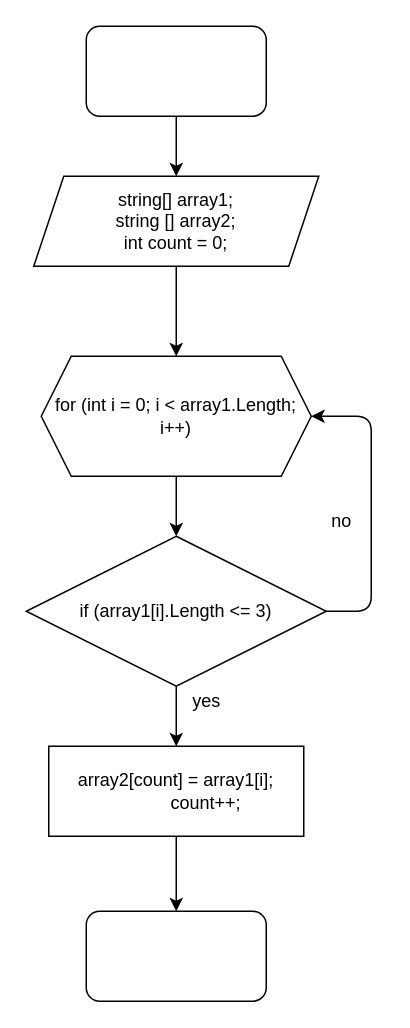
This 410x1028 diagram has some shape labels left out. The shapes that lost their labels are listed below. From the top down, each one's centre as x and y in pixels, then its label:
the point at 175,70: start
the point at 175,955: finish
